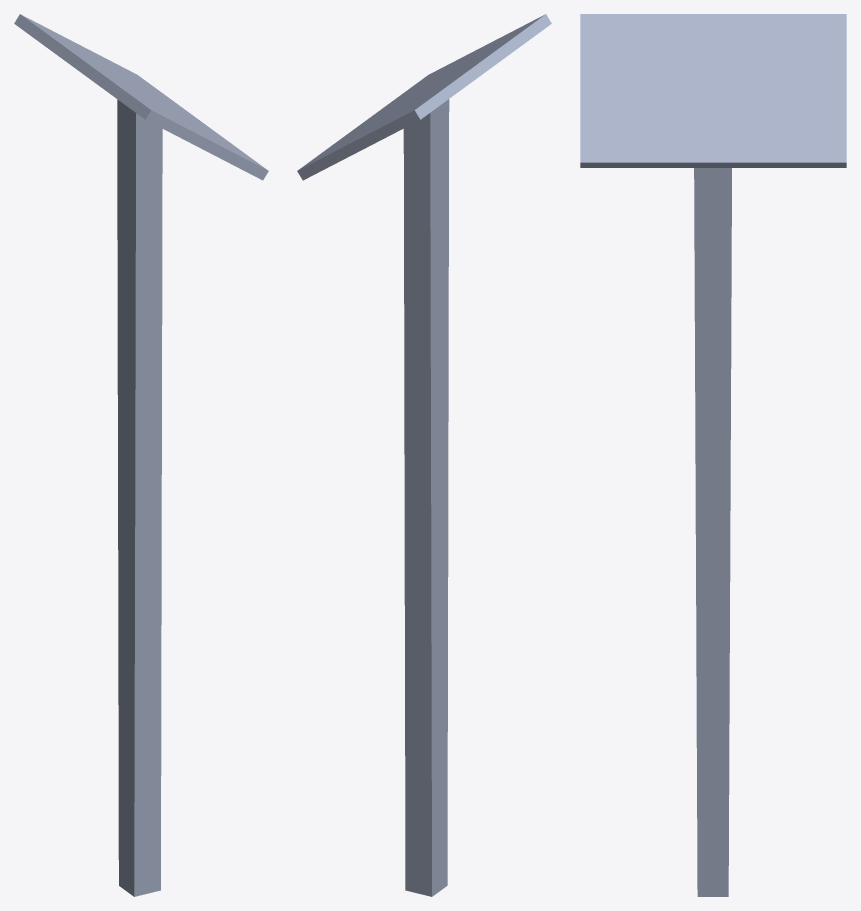
File: señal danger.fbx
3 renders of one model, left to right at view 1: azimuth 30°, elevation 25°; view 2: azimuth 150°, elevation 25°; view 3: azimuth 270°, elevation 25°, orthographic.
Parts seen in each view (by area): view 1: Danger signal; view 2: Danger signal; view 3: Danger signal.
Part boxes in pixels (left/top/right/bottom): Danger signal: left=14, top=14, right=268, bottom=896; Danger signal: left=297, top=14, right=551, bottom=896; Danger signal: left=580, top=14, right=846, bottom=896.
Bounding box in the file's own units: 111 × 724 × 205.
